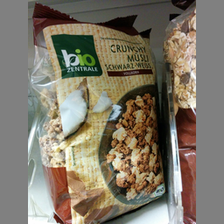cereal: (31, 10, 168, 224)
